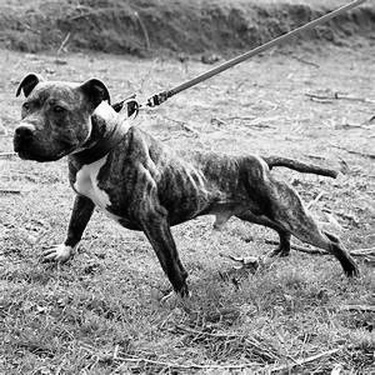dog: (11, 62, 366, 306)
